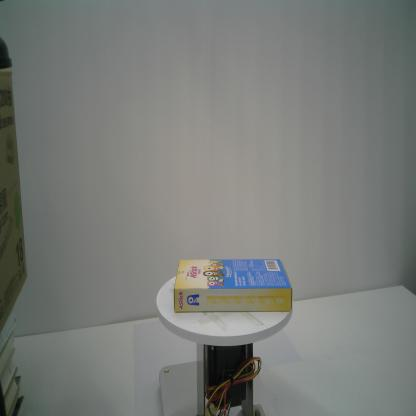Dessert: (174, 258, 292, 312)
